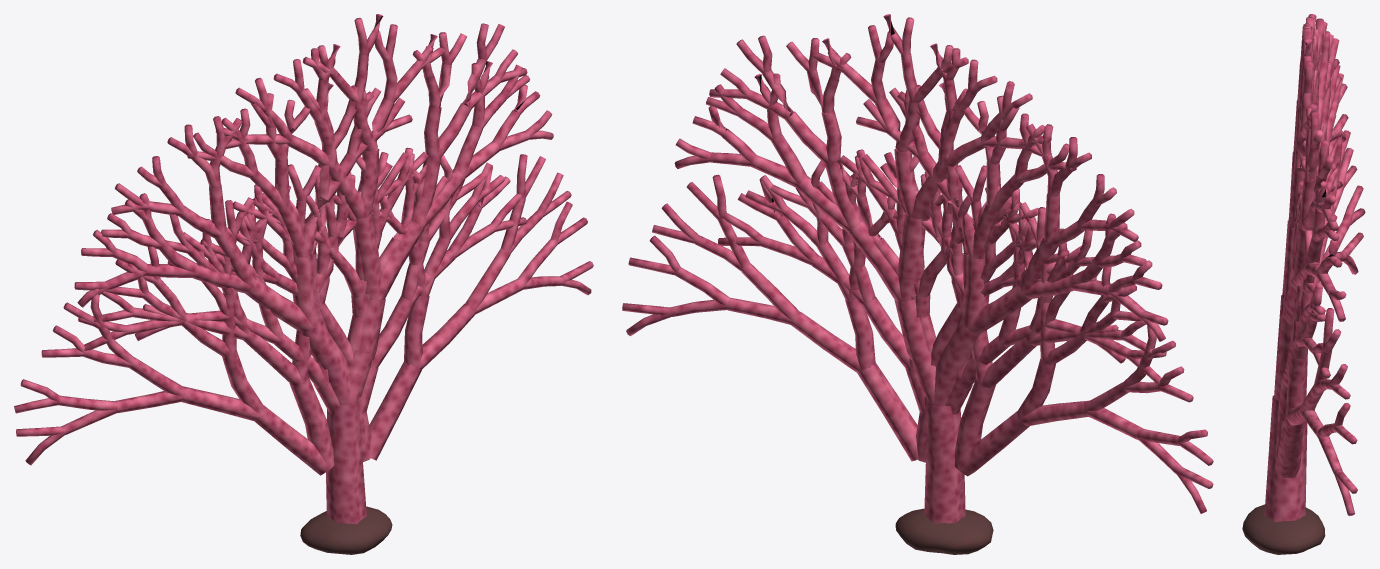
The model's file is d_fan.glb.
3 views of the same model, side by side, from view 1: azimuth 30°, elevation 25°; view 2: azimuth 150°, elevation 25°; view 3: azimuth 270°, elevation 25° (orthographic). The views are drawn at different scales.
Visible parts, largest first — view 1: fan; view 2: fan; view 3: fan.
Boxes of the visible parts, x1,y1,x2,y2 form: fan: (14,14,593,554); fan: (622,14,1213,554); fan: (1242,14,1365,554).
Size of the model in its own units: 1.31 by 1.12 by 0.2366.
Materials: 1 (1 with a texture image).
